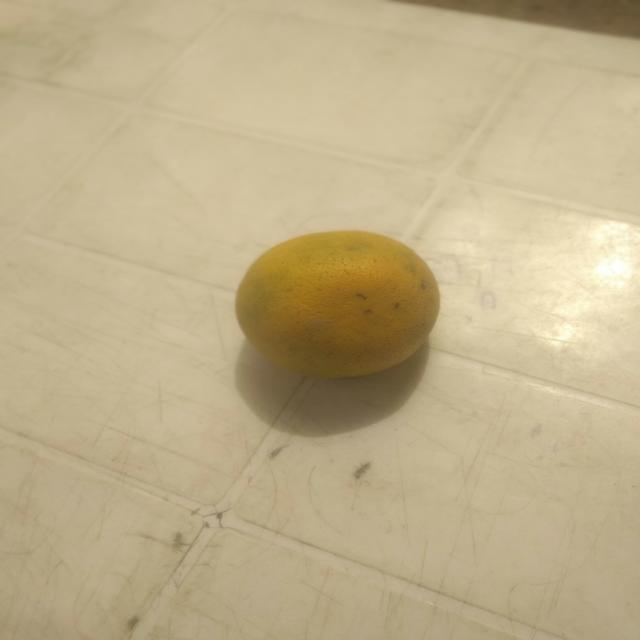agrume: (222, 220, 458, 396)
